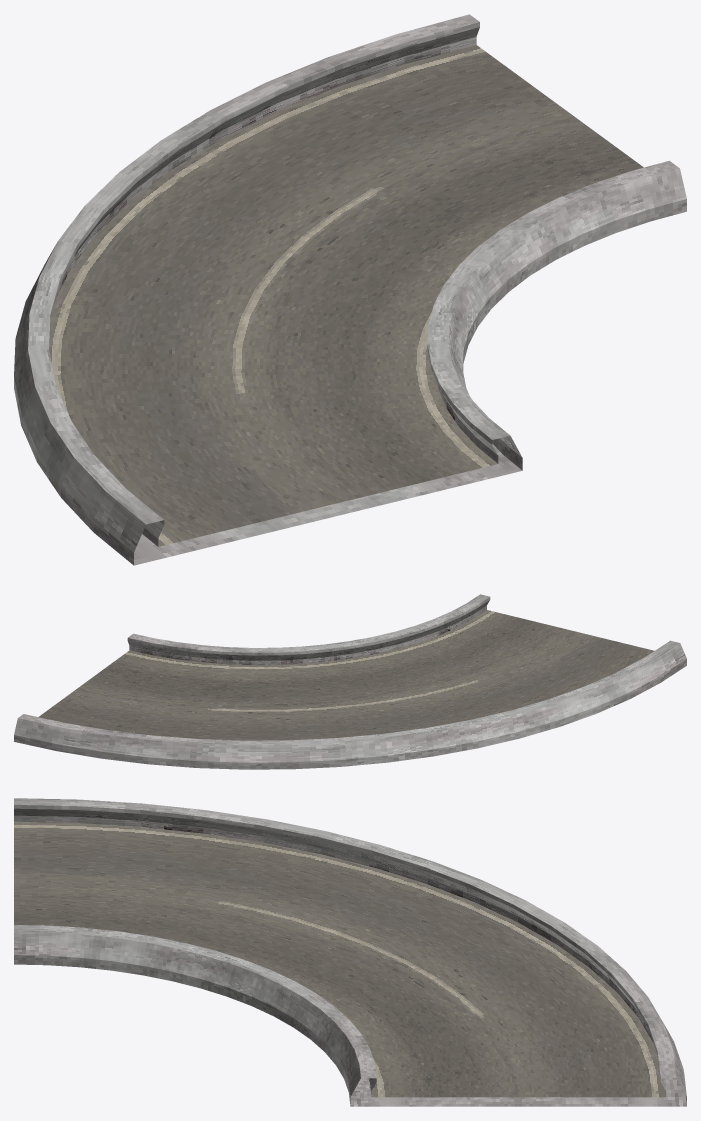
Rendered from road-Turn-Flat-Flat-Even-Right-Size2.glb.
3 renders of one model, top to bottom at view 1: azimuth 30°, elevation 25°; view 2: azimuth 150°, elevation 25°; view 3: azimuth 270°, elevation 25°, orthographic. The views are drawn at different scales.
Parts seen in each view (by area): view 1: road-Turn-Flat-Flat-Even-Right-Size2; view 2: road-Turn-Flat-Flat-Even-Right-Size2; view 3: road-Turn-Flat-Flat-Even-Right-Size2.
Boxes of the visible parts, x1=… form: road-Turn-Flat-Flat-Even-Right-Size2: x1=14, y1=14, x2=686, y2=565; road-Turn-Flat-Flat-Even-Right-Size2: x1=14, y1=594, x2=686, y2=769; road-Turn-Flat-Flat-Even-Right-Size2: x1=14, y1=798, x2=686, y2=1106.
Bounding box in the file's own units: 2 × 0.0938 × 2.
2 materials, 2 textured.
